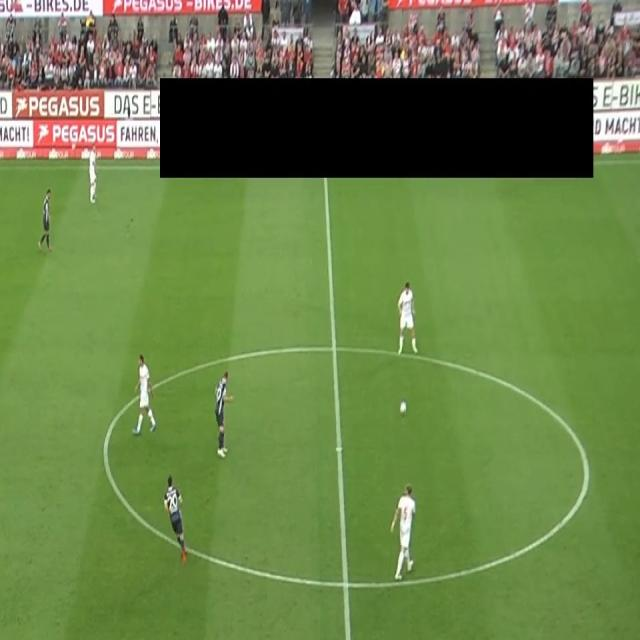ball: (400, 400, 408, 418)
